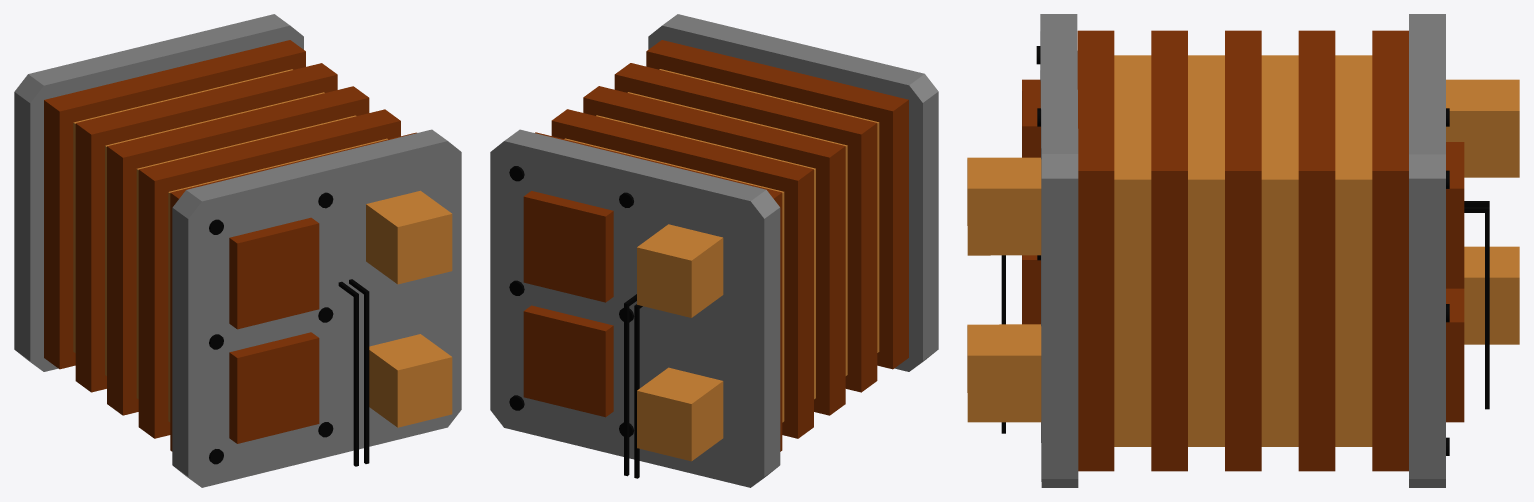
File: FuelCell.glb
The picture shows the model from 3 angles, left to right: view 1: azimuth 30°, elevation 25°; view 2: azimuth 150°, elevation 25°; view 3: azimuth 270°, elevation 25°; orthographic projection. The views are drawn at different scales.
Visible parts, largest first — view 1: Asset3DLoader.sceneRoot; view 2: Asset3DLoader.sceneRoot; view 3: Asset3DLoader.sceneRoot.
Part boxes in pixels (bbox=[...]): Asset3DLoader.sceneRoot: bbox=[14, 14, 461, 487]; Asset3DLoader.sceneRoot: bbox=[490, 14, 938, 487]; Asset3DLoader.sceneRoot: bbox=[967, 14, 1519, 487].
Bounding box in the file's own units: 5 × 5 × 7.49.
